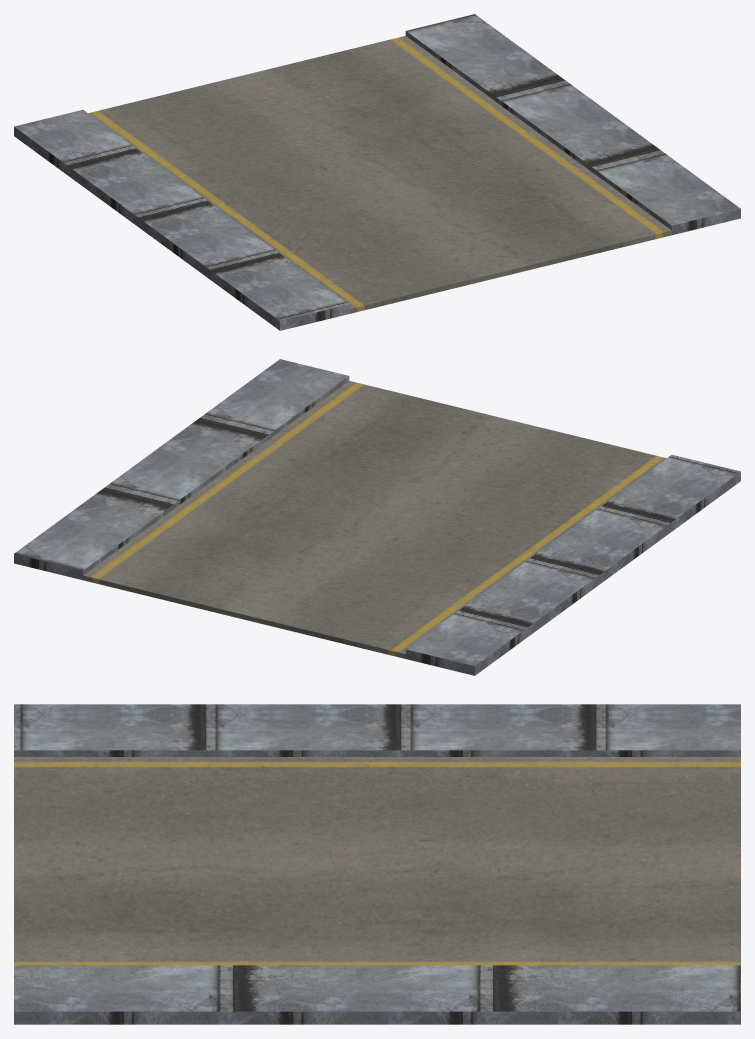
Rendered from Urban_Road2Straight_Model.fbx.
3 renders of one model, top to bottom at view 1: azimuth 30°, elevation 25°; view 2: azimuth 150°, elevation 25°; view 3: azimuth 270°, elevation 25°, orthographic. The views are drawn at different scales.
Visible parts, largest first — view 1: Urban_Road2Straight_Mesh; view 2: Urban_Road2Straight_Mesh; view 3: Urban_Road2Straight_Mesh.
Part boxes in pixels (x1,y1,x2,y2): Urban_Road2Straight_Mesh: (14,14,740,330); Urban_Road2Straight_Mesh: (14,359,740,675); Urban_Road2Straight_Mesh: (14,704,740,1024).
Size of the model in its own units: 16 by 0.32 by 16.
